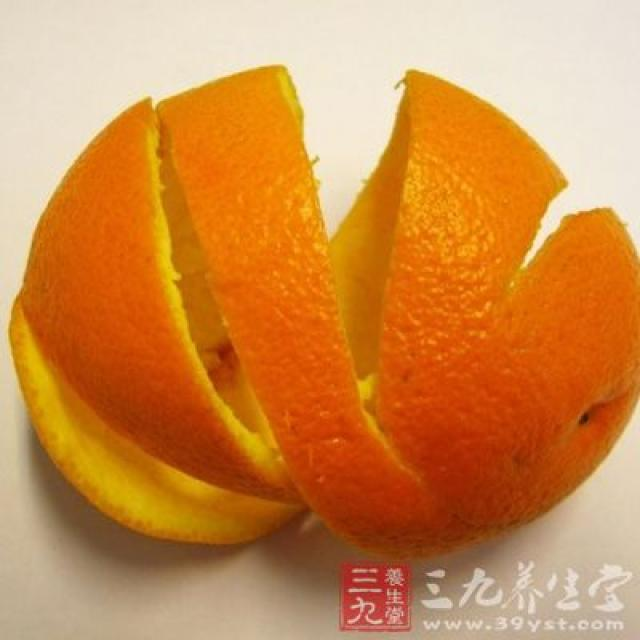-Kitchen waste - fruit-: (16, 67, 639, 547)
